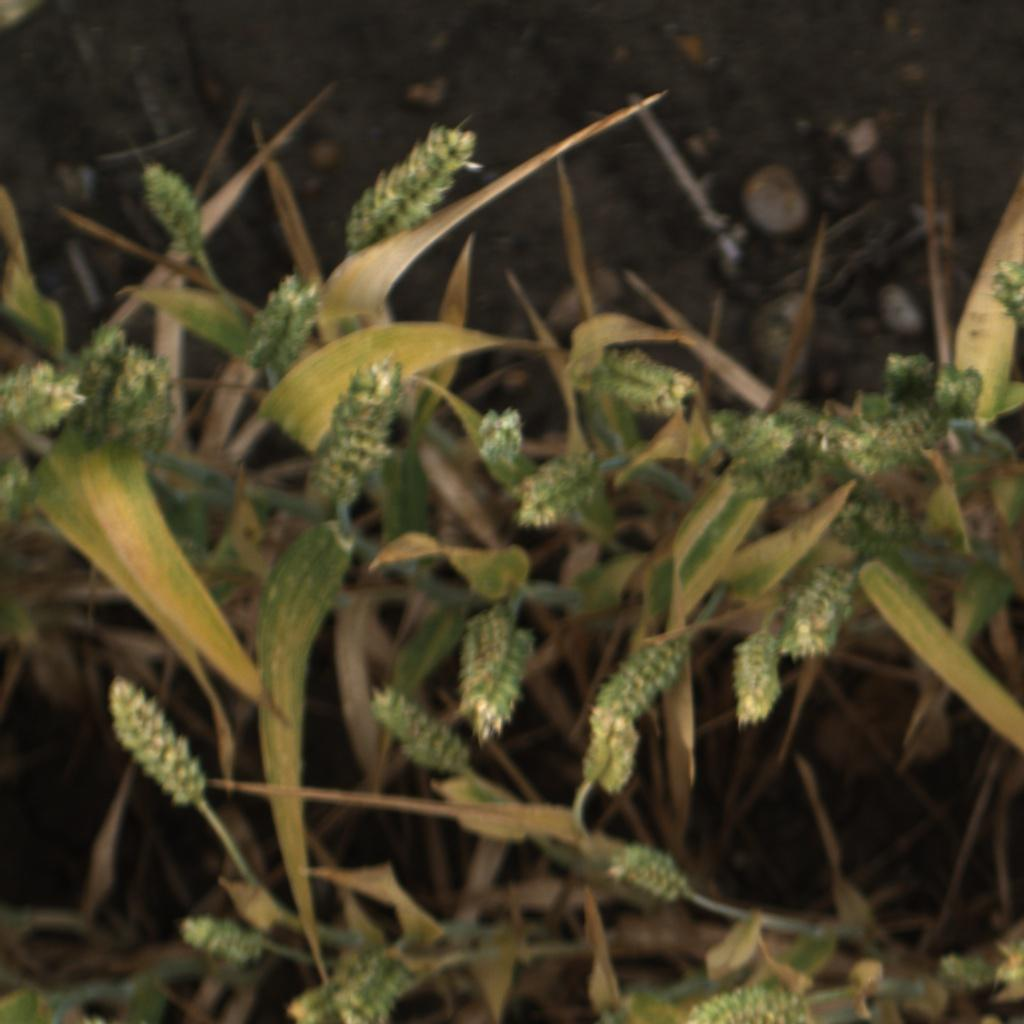0-0: (340, 122, 486, 257), (300, 356, 419, 505), (104, 669, 216, 815), (453, 613, 532, 745), (240, 271, 323, 389), (366, 683, 470, 777), (775, 557, 859, 663), (101, 344, 175, 462), (66, 320, 132, 445), (0, 348, 90, 434), (769, 392, 871, 465), (601, 345, 701, 418), (510, 454, 601, 533), (595, 637, 683, 715), (607, 831, 691, 912), (725, 631, 793, 730), (132, 156, 204, 242), (579, 703, 643, 798), (176, 906, 266, 970), (827, 499, 914, 557), (876, 400, 960, 459), (679, 982, 796, 1024), (339, 957, 409, 1024), (838, 428, 915, 481), (472, 402, 529, 472), (728, 450, 811, 497), (727, 413, 796, 467), (880, 351, 942, 408), (930, 949, 994, 999), (859, 492, 925, 539), (0, 452, 38, 530), (274, 980, 341, 1024), (932, 363, 983, 417), (989, 254, 1024, 329), (986, 937, 1023, 989), (704, 405, 748, 447)
